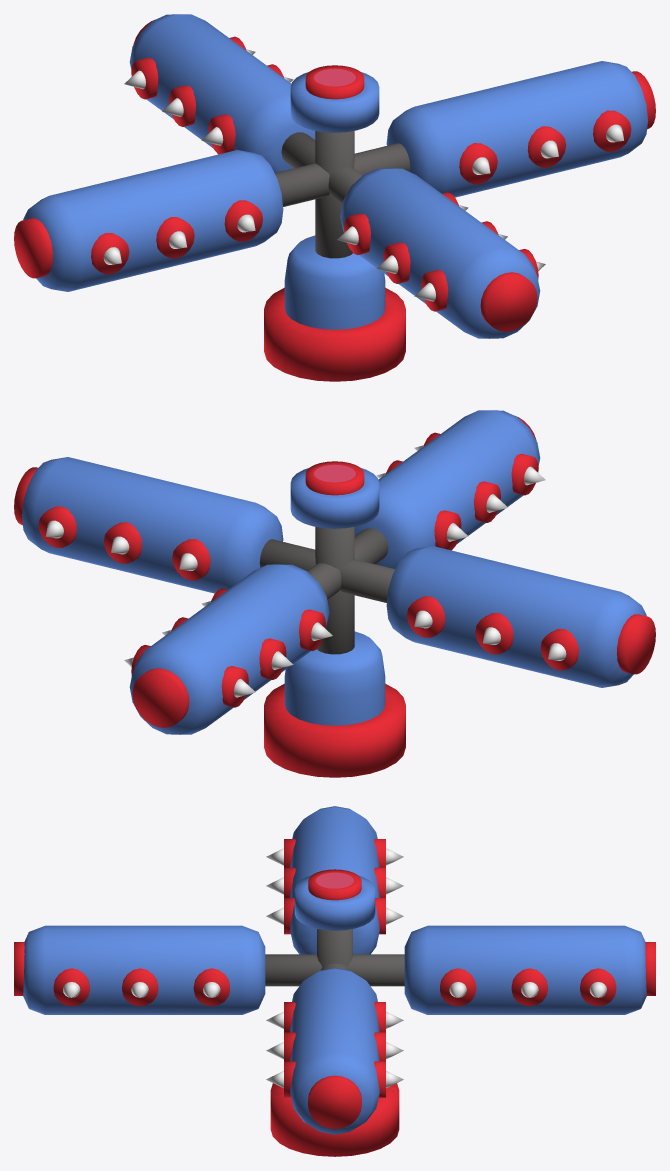
File: Obstacle 11 V1.fbx
3 renders of one model, top to bottom at view 1: azimuth 30°, elevation 25°; view 2: azimuth 150°, elevation 25°; view 3: azimuth 270°, elevation 25°, orthographic. The views are drawn at different scales.
Visible parts, largest first — view 1: O11 Part 1, O11 Part 2; view 2: O11 Part 1, O11 Part 2; view 3: O11 Part 1, O11 Part 2.
Boxes of the visible parts, left/top/right/bottom form: O11 Part 1: left=14, top=14, right=655, bottom=338; O11 Part 2: left=264, top=65, right=405, bottom=381; O11 Part 1: left=14, top=410, right=655, bottom=734; O11 Part 2: left=264, top=461, right=405, bottom=777; O11 Part 1: left=14, top=806, right=655, bottom=1134; O11 Part 2: left=270, top=869, right=399, bottom=1156.
Bounding box in the file's own units: 225 × 96.18 × 225.
1 material, 1 textured.
